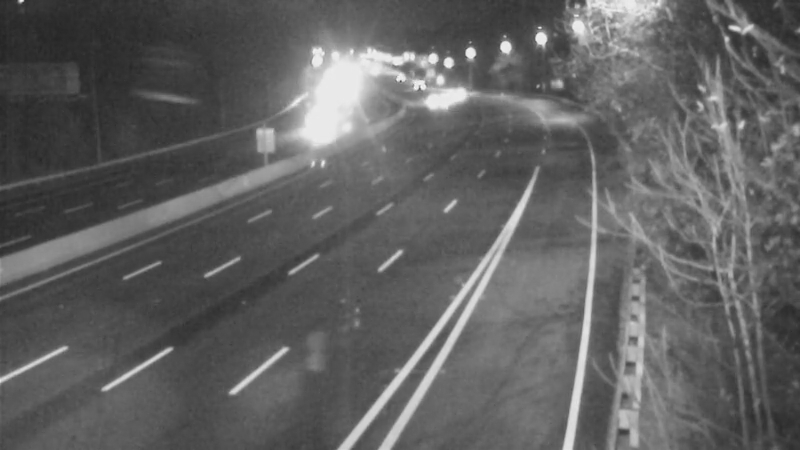vehicle: (391, 57, 441, 107), (433, 66, 483, 116), (409, 75, 459, 125)
